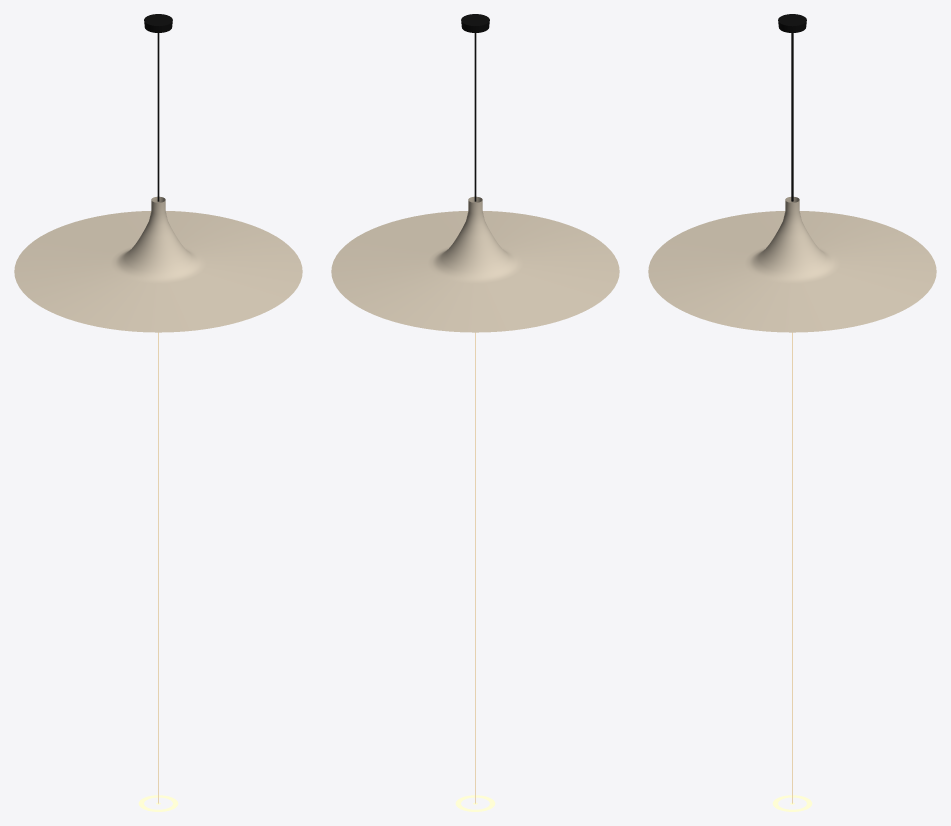
File: suspension-wabi-sabi-beton.glb
3 views of the same model, side by side, from view 1: azimuth 30°, elevation 25°; view 2: azimuth 150°, elevation 25°; view 3: azimuth 270°, elevation 25° (orthographic).
Parts seen in each view (by area): view 1: suspension-wabi-sabi-beton; view 2: suspension-wabi-sabi-beton; view 3: suspension-wabi-sabi-beton.
Boxes of the visible parts, x1,y1,x2,y2 form: suspension-wabi-sabi-beton: (14, 14, 302, 332); suspension-wabi-sabi-beton: (331, 14, 619, 332); suspension-wabi-sabi-beton: (648, 14, 936, 332).
Bounding box in the file's own units: 0.8 × 2.4 × 0.8.
